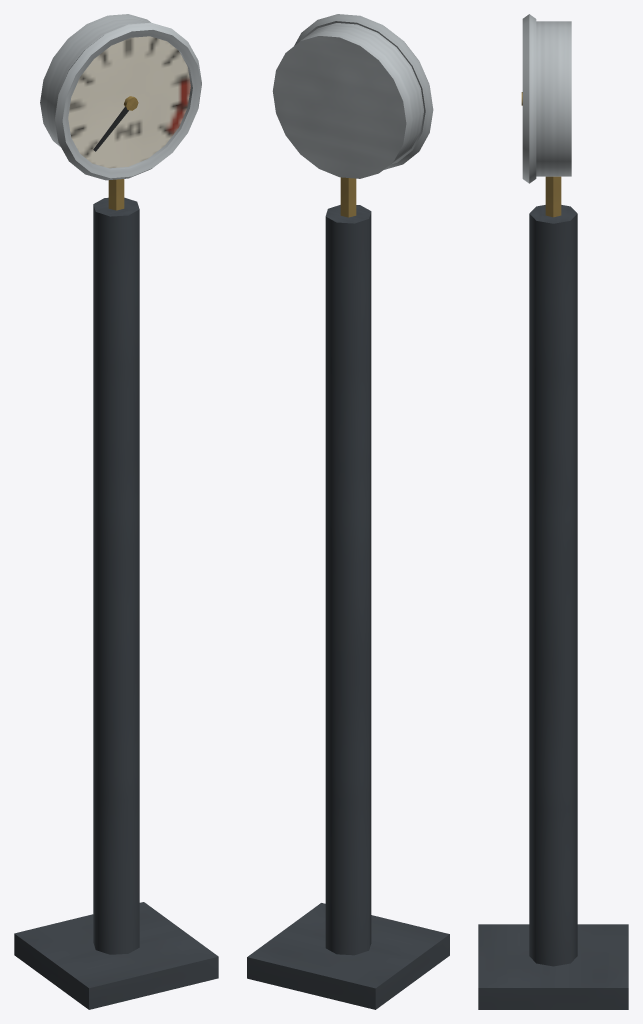
Rendered from pressure_gauge_lc.obj.
The picture shows the model from 3 angles, left to right: view 1: azimuth 30°, elevation 25°; view 2: azimuth 150°, elevation 25°; view 3: azimuth 270°, elevation 25°; orthographic projection.
Visible parts, largest first — view 1: pressure_gauge_lc; view 2: pressure_gauge_lc; view 3: pressure_gauge_lc.
Boxes of the visible parts, x1,y1,x2,y2 form: pressure_gauge_lc: (14, 14, 218, 1009); pressure_gauge_lc: (247, 14, 449, 1009); pressure_gauge_lc: (478, 14, 628, 1009).
Size of the model in its own units: 0.284 by 1.75 by 0.25.
1 material, 1 textured.
